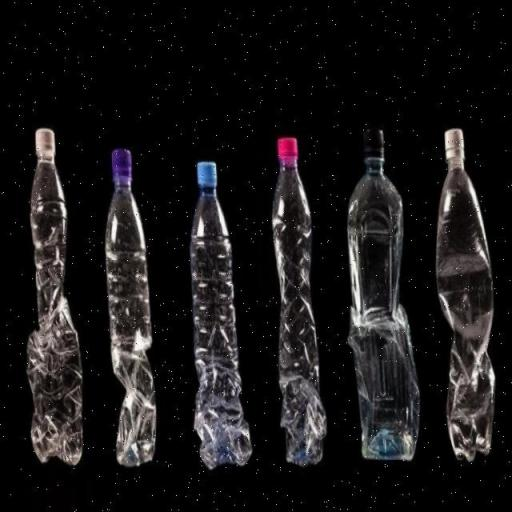plastic: (337, 116, 420, 464), (427, 117, 502, 465), (17, 119, 86, 470), (180, 151, 250, 473), (263, 126, 326, 470), (96, 141, 160, 472)
